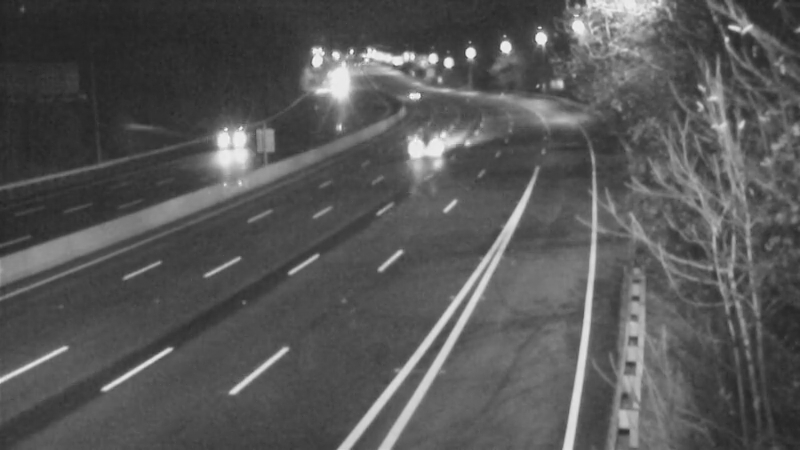vehicle: (388, 73, 438, 123), (396, 121, 446, 171), (216, 109, 266, 159), (313, 63, 363, 113)
